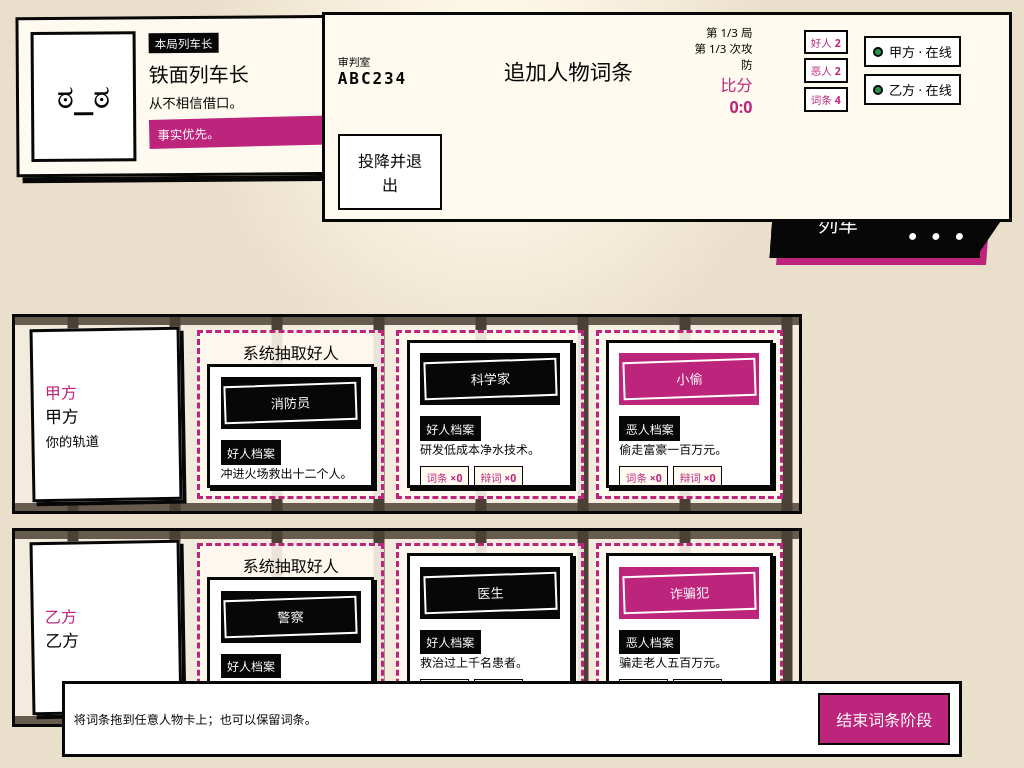
single-screen game stage › keeps rail evidence compact and opens the complete character dossier on demand
expect the text "曾经拒绝救助仇人" is not shown: met
expect the text "他救下的十二个人证明行动比动机更重要。" is not shown: met
Step 1. Click the button with aria-label "查看消防员人物档案" → (291, 426), box [207,364,374,488]
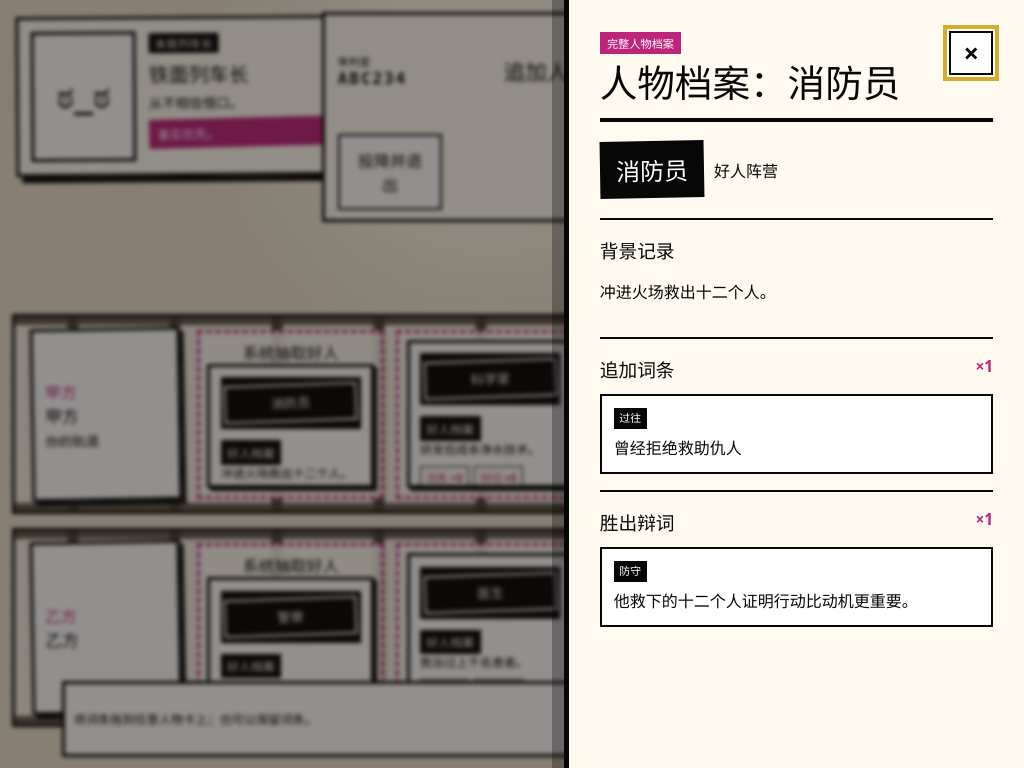
expect the list item "曾经拒绝救助仇人" is shown: met, box [614,436,742,458]
expect the list item "他救下的十二个人证明行动比动机更重要。" is shown: met, box [614,590,918,612]
Step 2. Press Escape
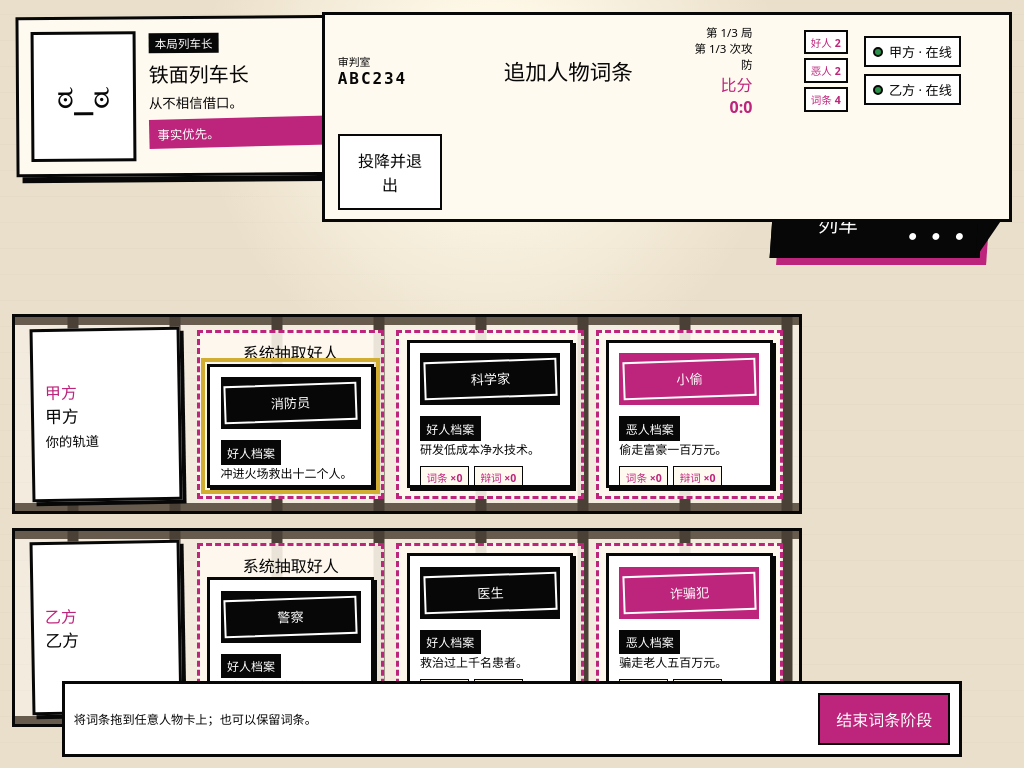
expect the heading "人物档案：消防员" is gone: met
